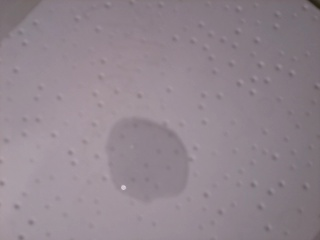Water_detected: (109, 126, 179, 188)
